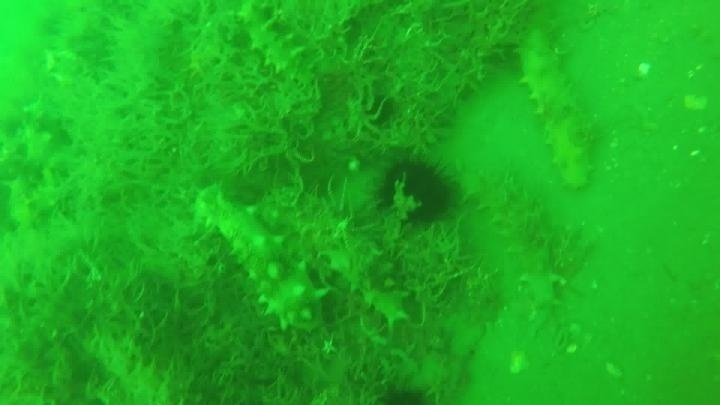echinus: (371, 152, 462, 228)
holothurian: (256, 183, 409, 331), (190, 183, 331, 335), (458, 164, 589, 282), (511, 23, 598, 190), (235, 3, 321, 93)
